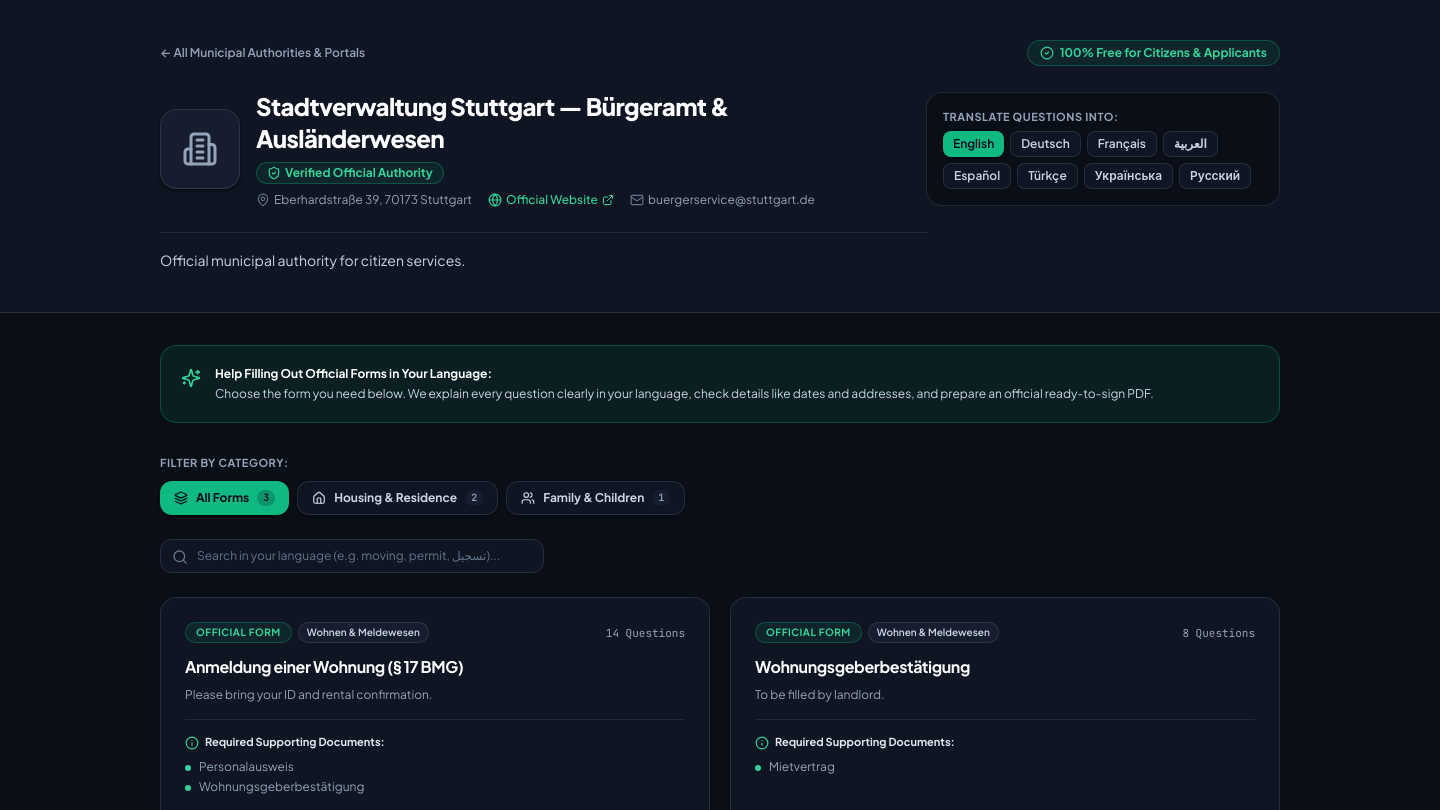
it: TYPO3-Inspired Multilingual Form Categories & Public Portal Filtering › translates category pills instantly when citizen changes guidance language
The width and height of the screenshot is (1440, 810).
Expected: the text "Housing & Residence" is shown, [334,490,457,506]
# Citizen selects German language button
Click the button "Deutsch" at (1046, 144), box [1010,131,1081,157]
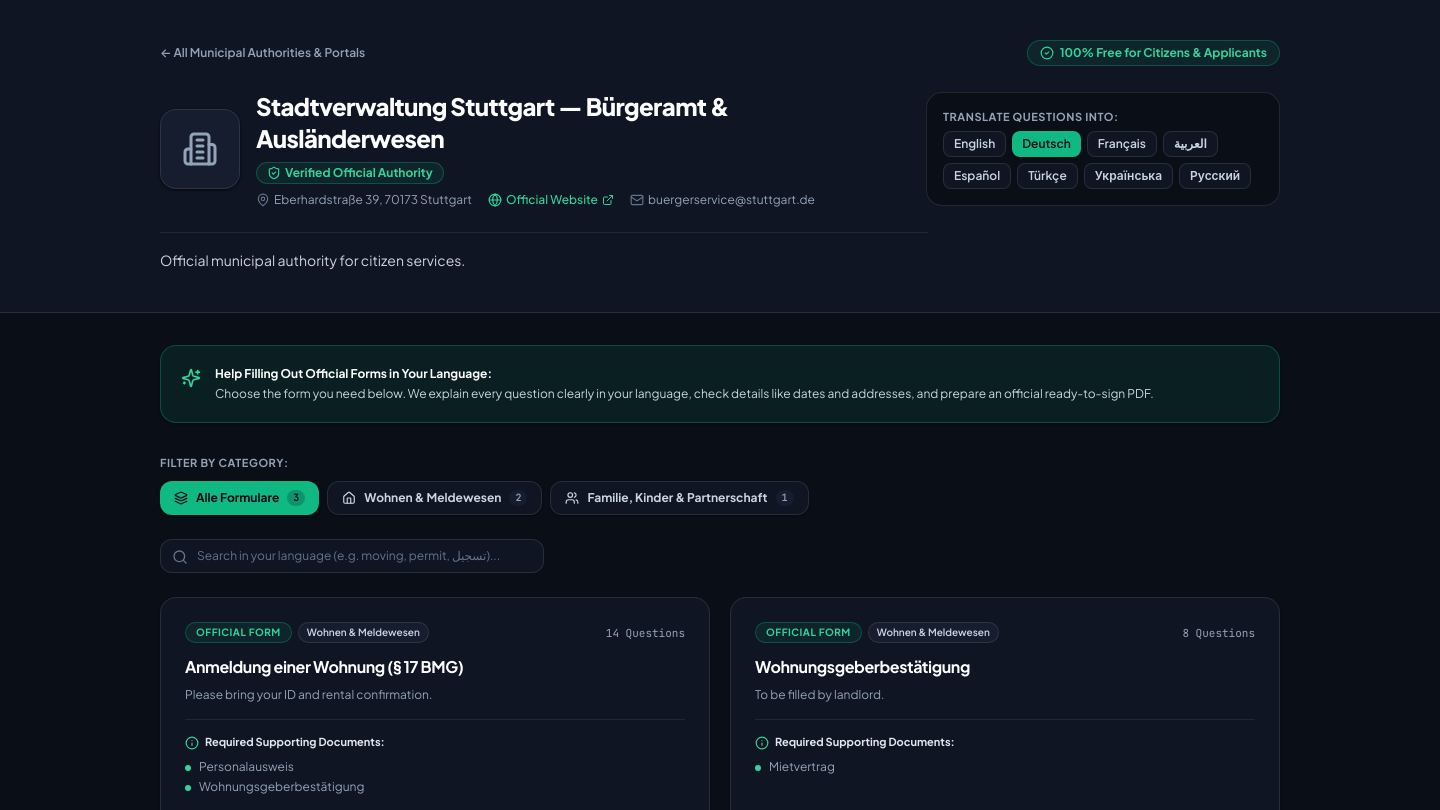
# Citizen selects Arabic language button
Click the button "العربية" at (1190, 144), box [1163,131,1218,157]
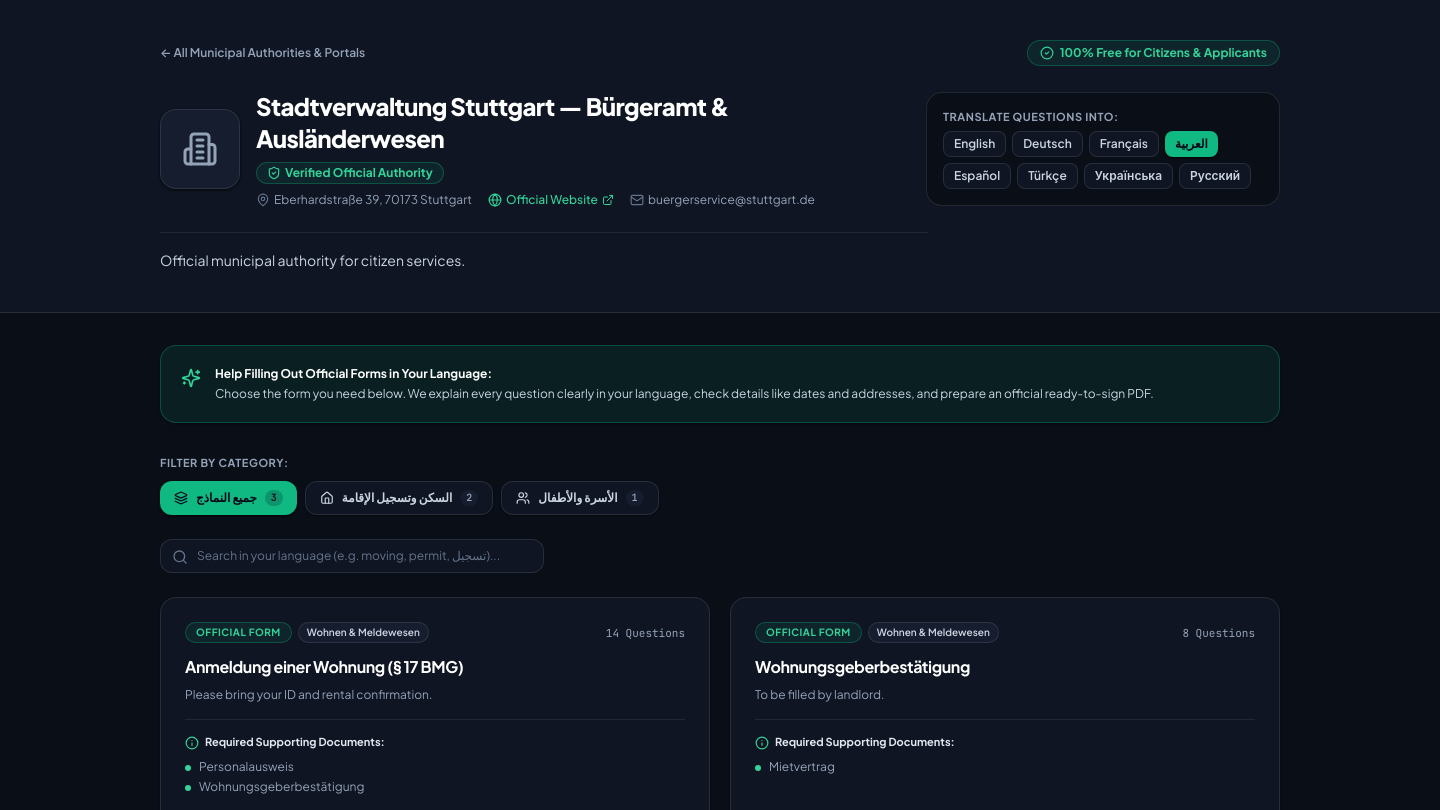
Expected: the text "السكن وتسجيل الإقامة" is shown, [342,490,452,506]
Expected: the text "الأسرة والأطفال" is shown, [538,490,618,506]
